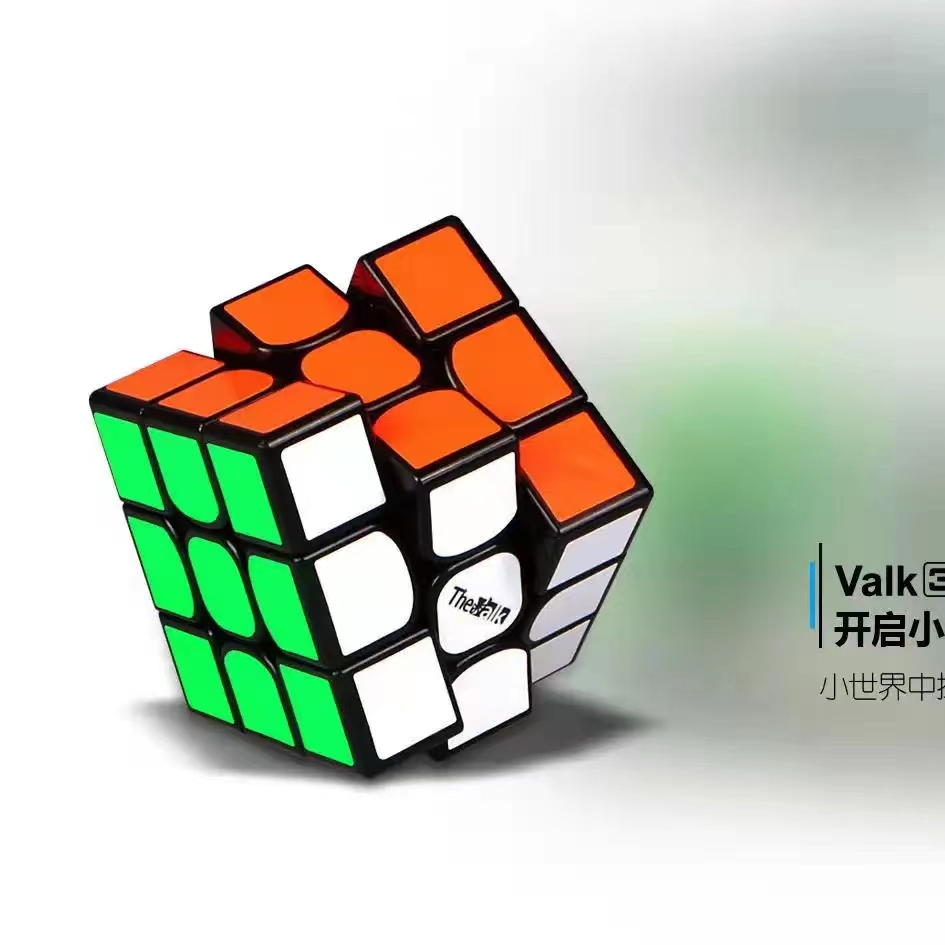cube: (85, 207, 656, 784)
